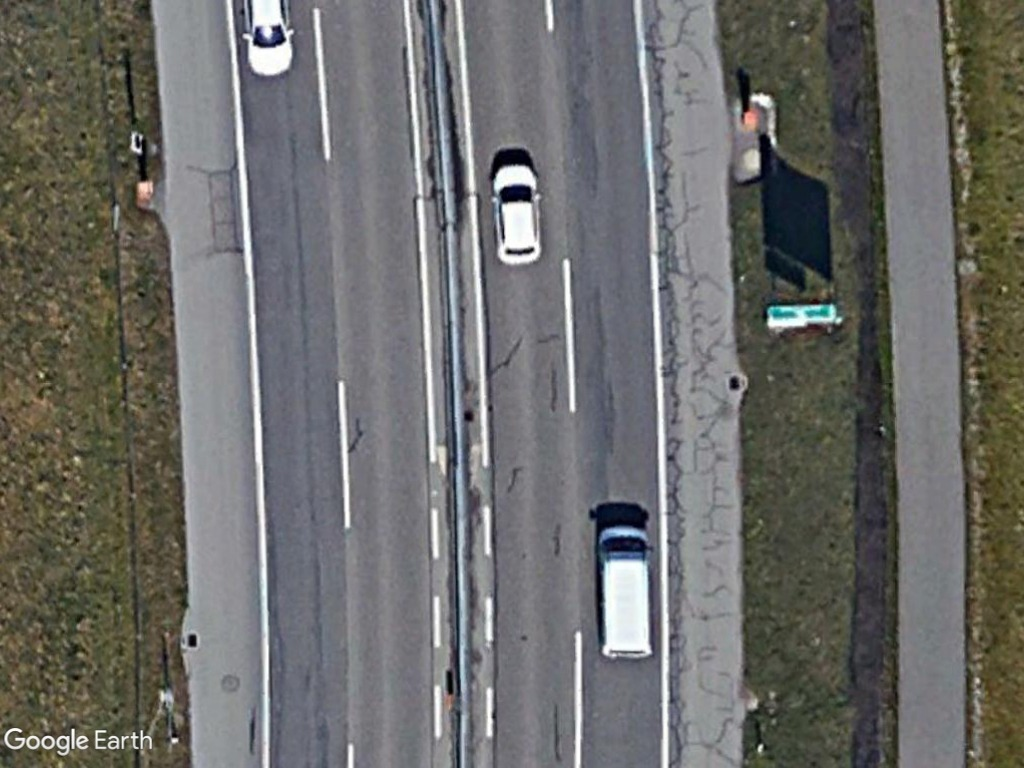car: (491, 157, 545, 270)
van: (595, 518, 662, 669)
